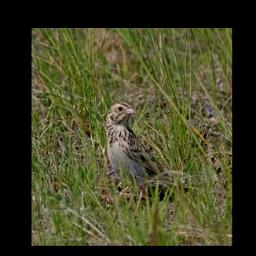Sparrow: (104, 99, 192, 217)
